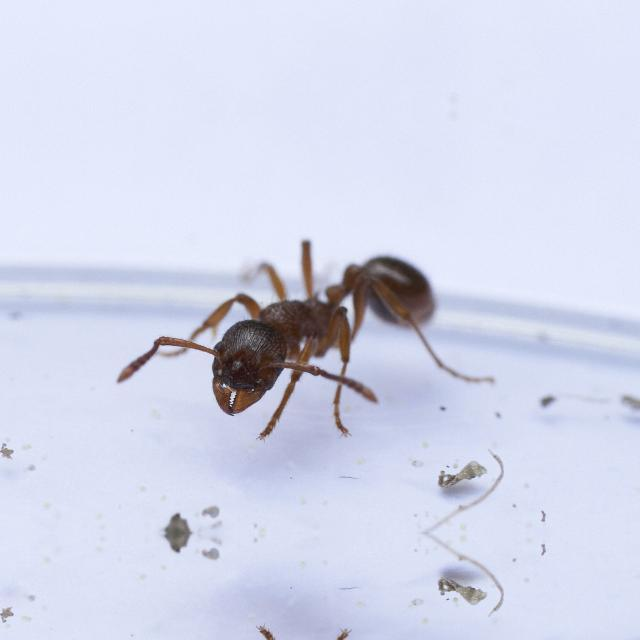Myrmica: (146, 229, 460, 426)
